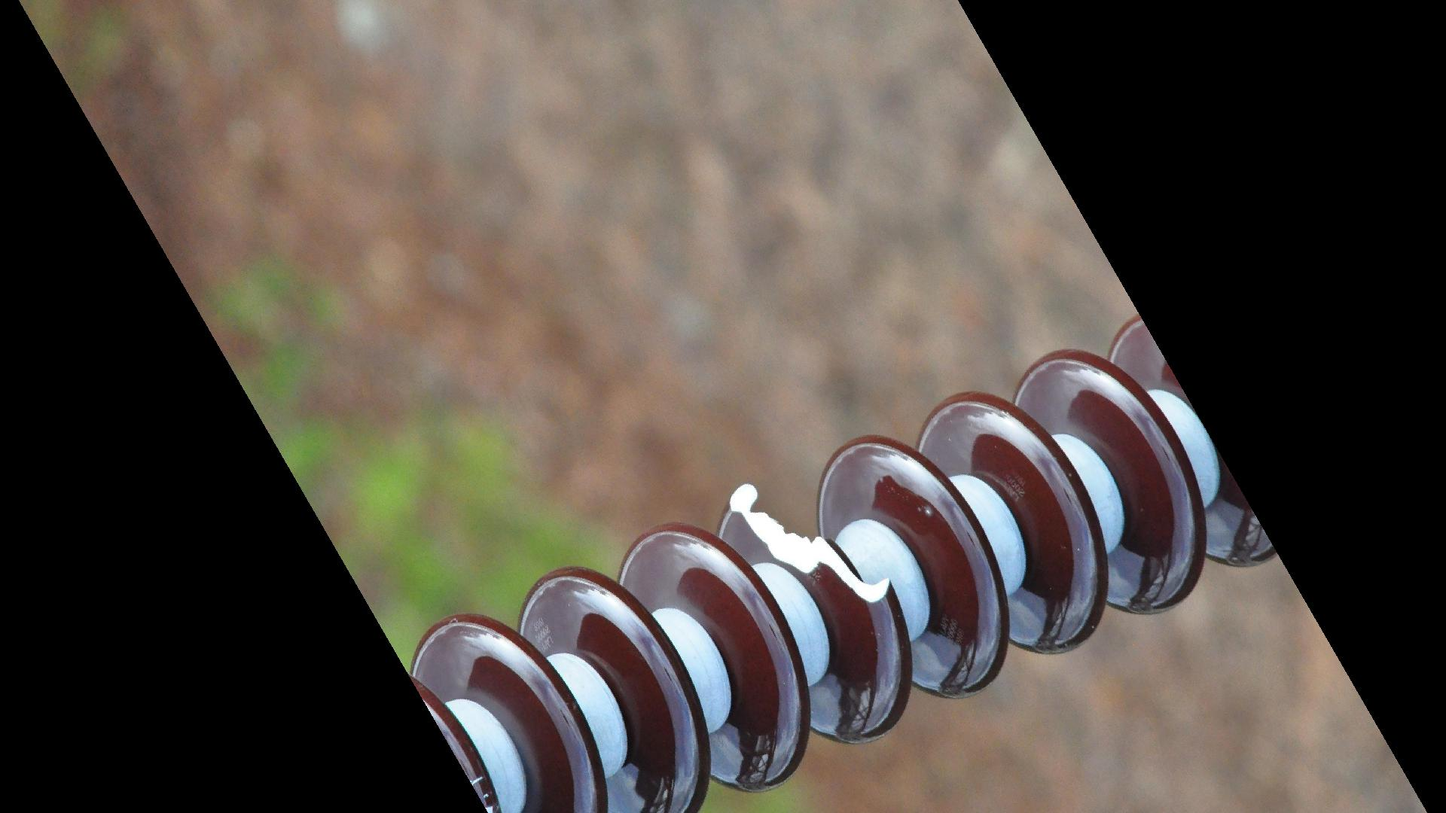insulator: (402, 303, 1296, 813)
insulator_breakage: (718, 475, 907, 620)
